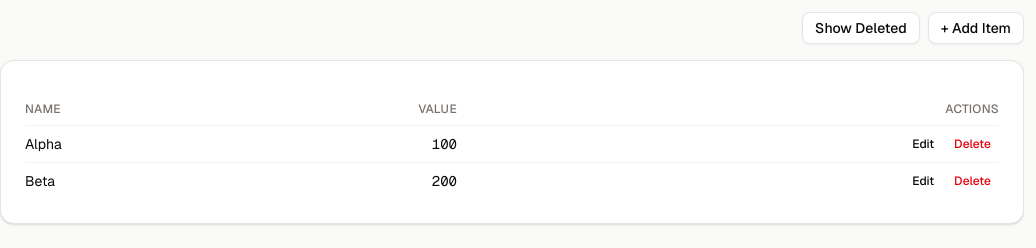
Test case: CrudTable › uses fromItem to populate edit values when provided
What coordinates should you click on to do the following:
click the button "Edit" in the row of "Alpha"
I would click on:
 (923, 144)
Its box is [904,132,942,156].
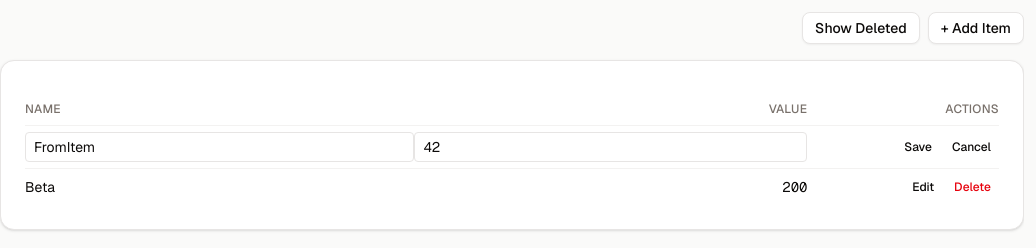
Check: the 1st field holds "FromItem", box [25,132,414,162]
